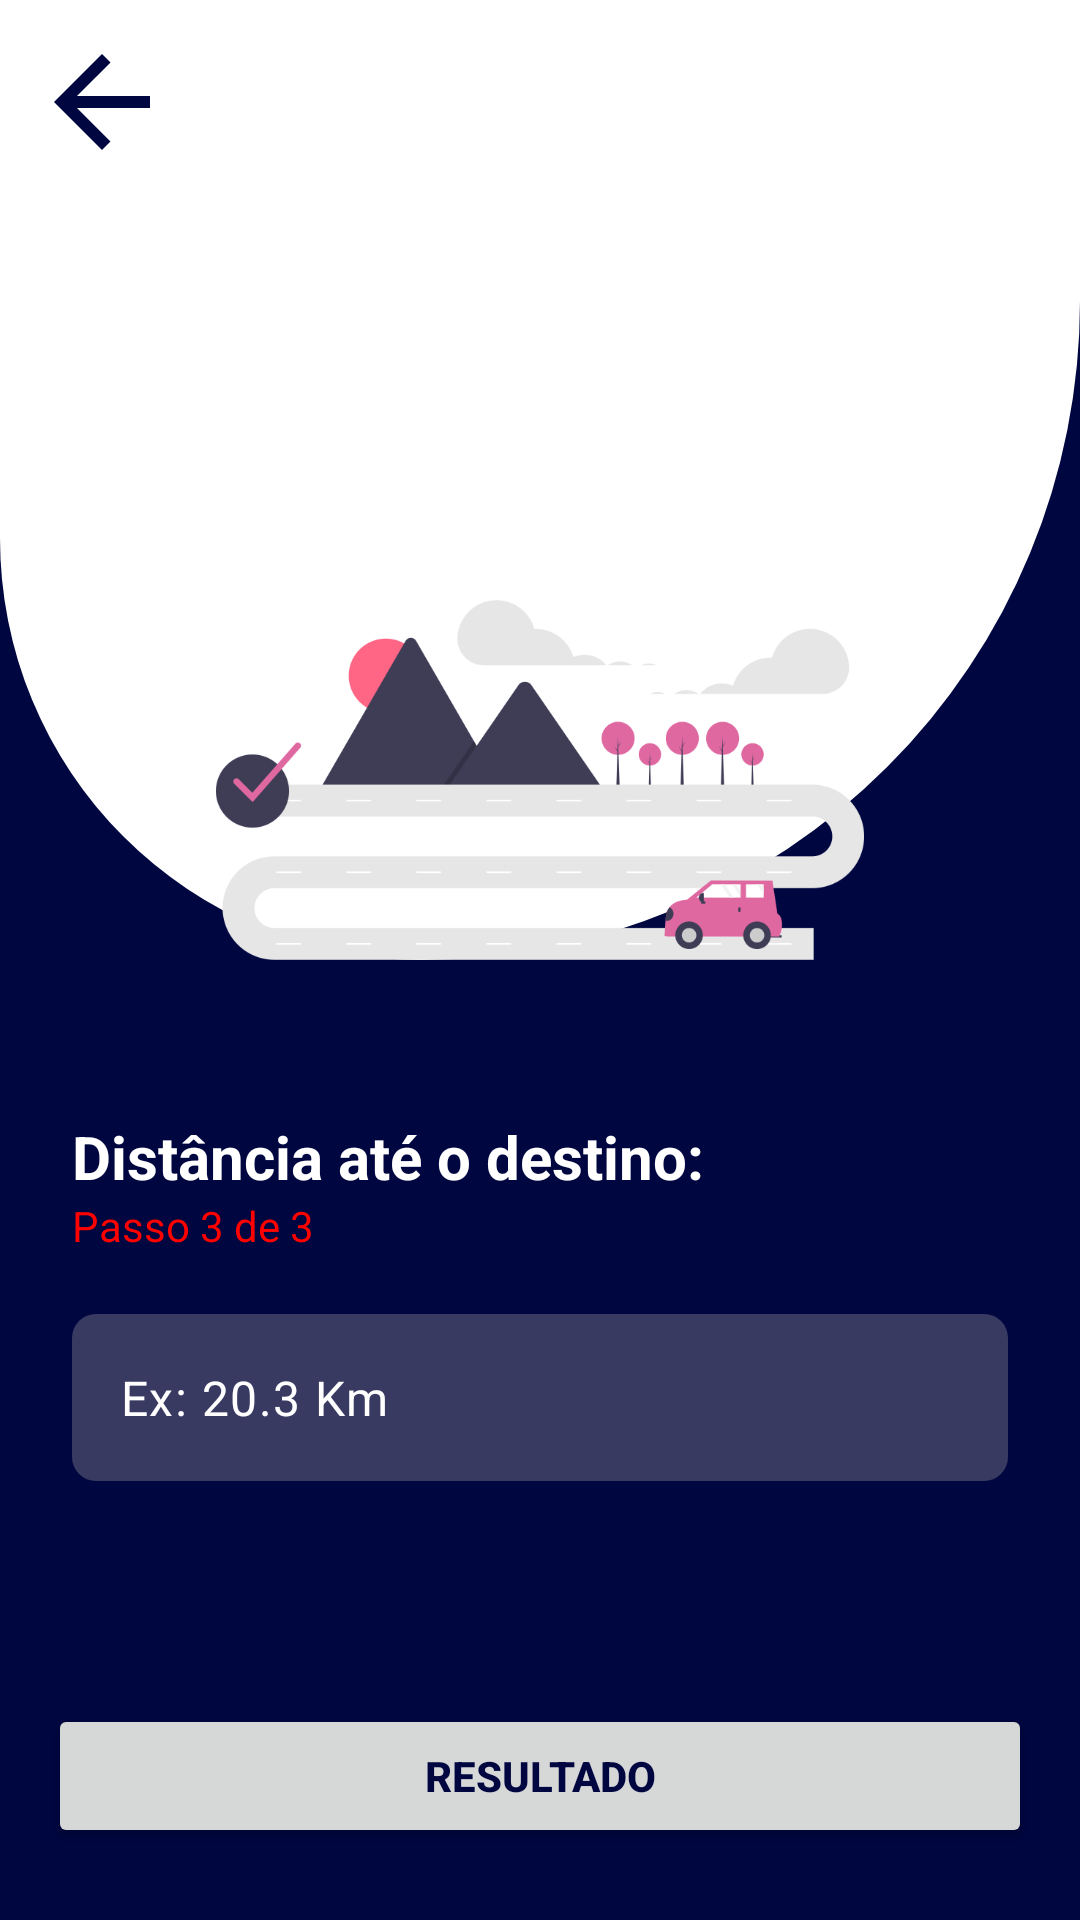

Icons on this 1080*1920 Android screen, each with the point to tap as (x,y):
Botão voltar: (102,102)
